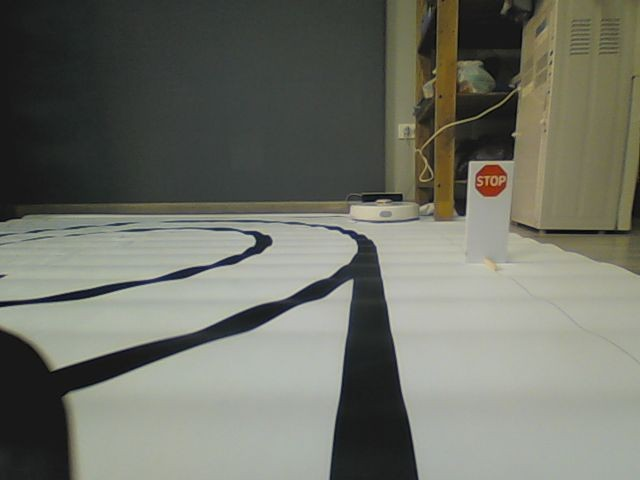Stop: (473, 163, 508, 198)
